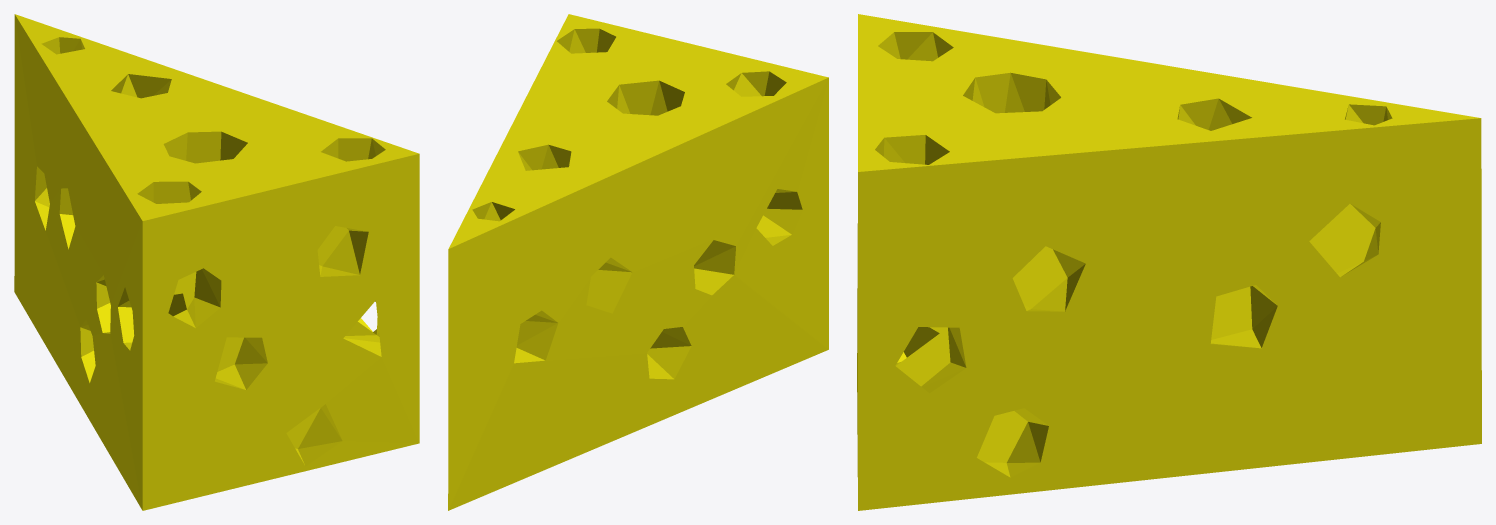
File: cheese.fbx
3 renders of one model, left to right at view 1: azimuth 30°, elevation 25°; view 2: azimuth 150°, elevation 25°; view 3: azimuth 270°, elevation 25°, orthographic. The views are drawn at different scales.
Parts seen in each view (by area): view 1: Cube; view 2: Cube; view 3: Cube.
Part boxes in pixels (x1,y1,x2,y2): Cube: [14, 14, 419, 510]; Cube: [448, 14, 828, 510]; Cube: [857, 14, 1481, 510].
Bounding box in the file's own units: 200 × 207 × 334.
